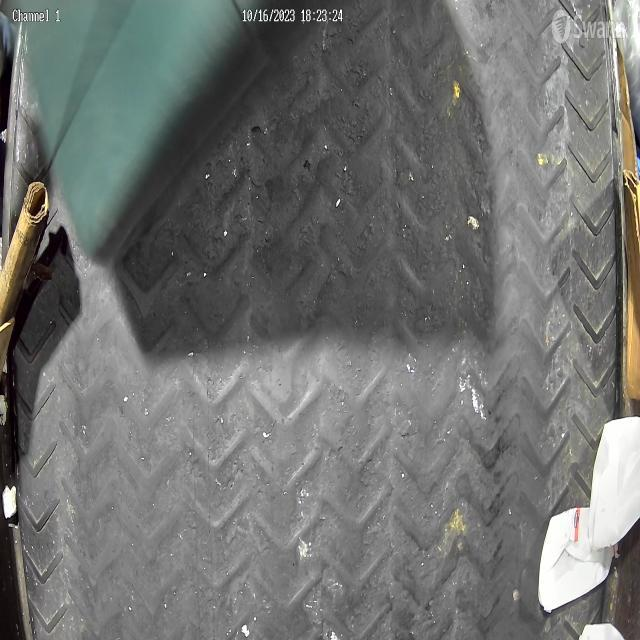milk_jug: (538, 508, 618, 614), (588, 416, 640, 548)
